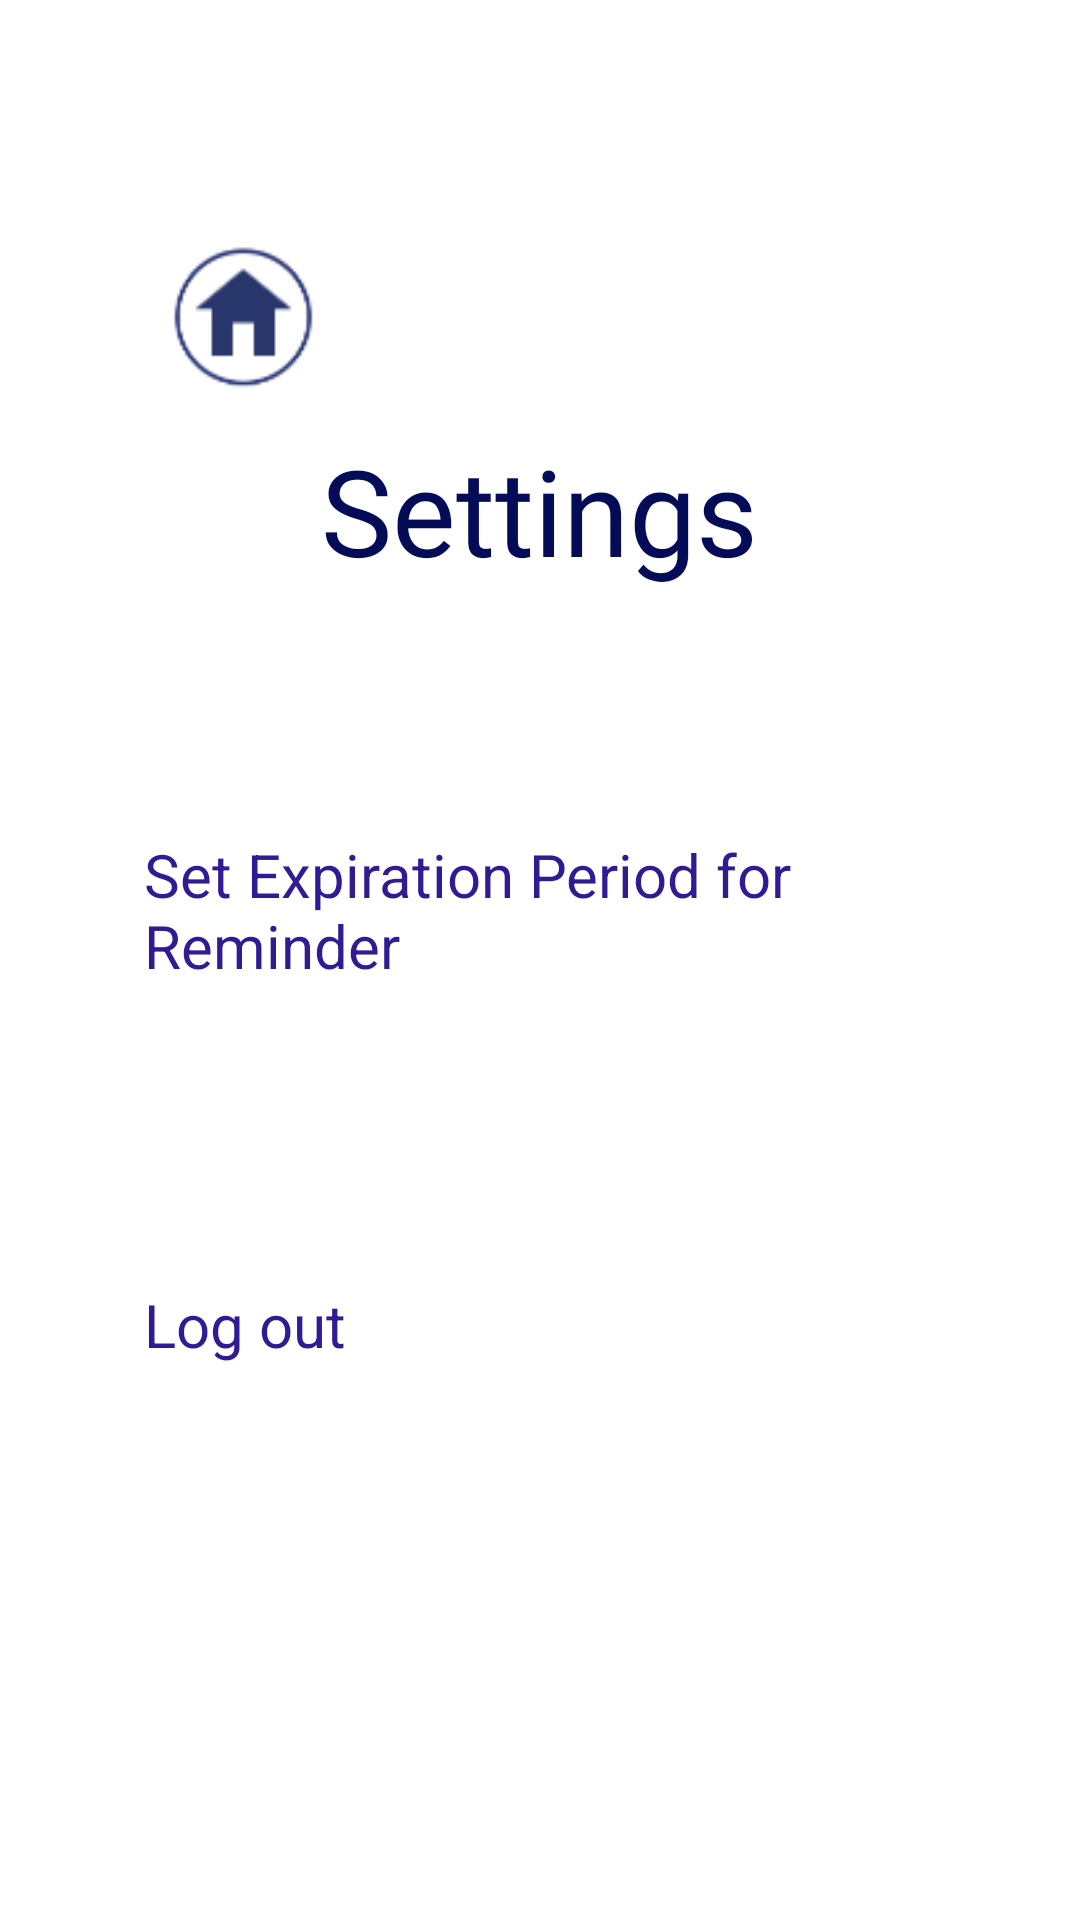

Icons on this 1080×1920 Android screen, each with its box as {"x1": x1, "y1": y1, "x2": x2, "y2": y2}:
Home Button: {"x1": 174, "y1": 247, "x2": 313, "y2": 387}
